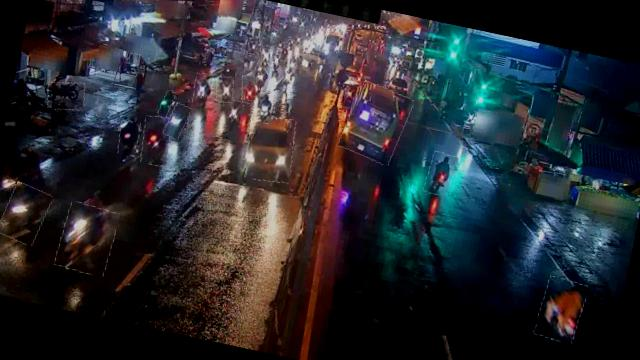Bike: (54, 201, 119, 277), (534, 276, 588, 344), (0, 181, 51, 246), (138, 114, 176, 168), (424, 150, 461, 198), (44, 78, 88, 114), (163, 102, 190, 140), (223, 99, 252, 134), (115, 120, 142, 157), (250, 90, 278, 124), (190, 72, 214, 108), (214, 74, 236, 104), (239, 74, 260, 102), (158, 90, 175, 119), (280, 64, 297, 90), (260, 45, 274, 69), (254, 58, 266, 78)
Bus: (339, 80, 413, 166)
Car: (241, 112, 300, 185)
